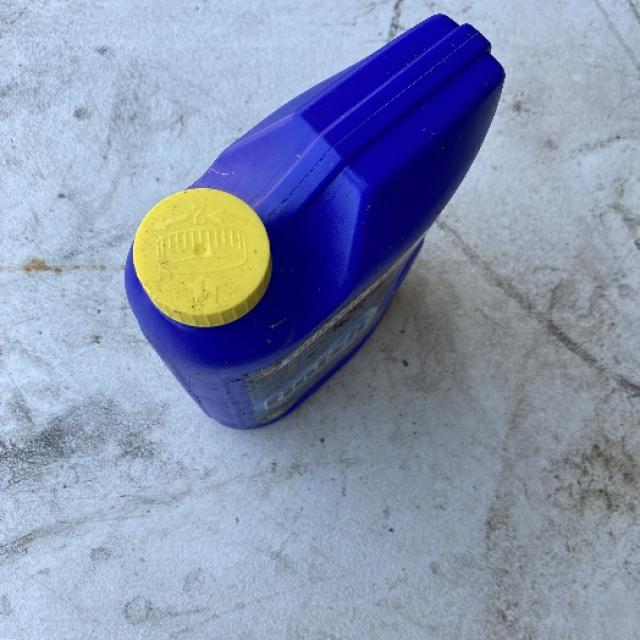plastic: (122, 11, 506, 430)
